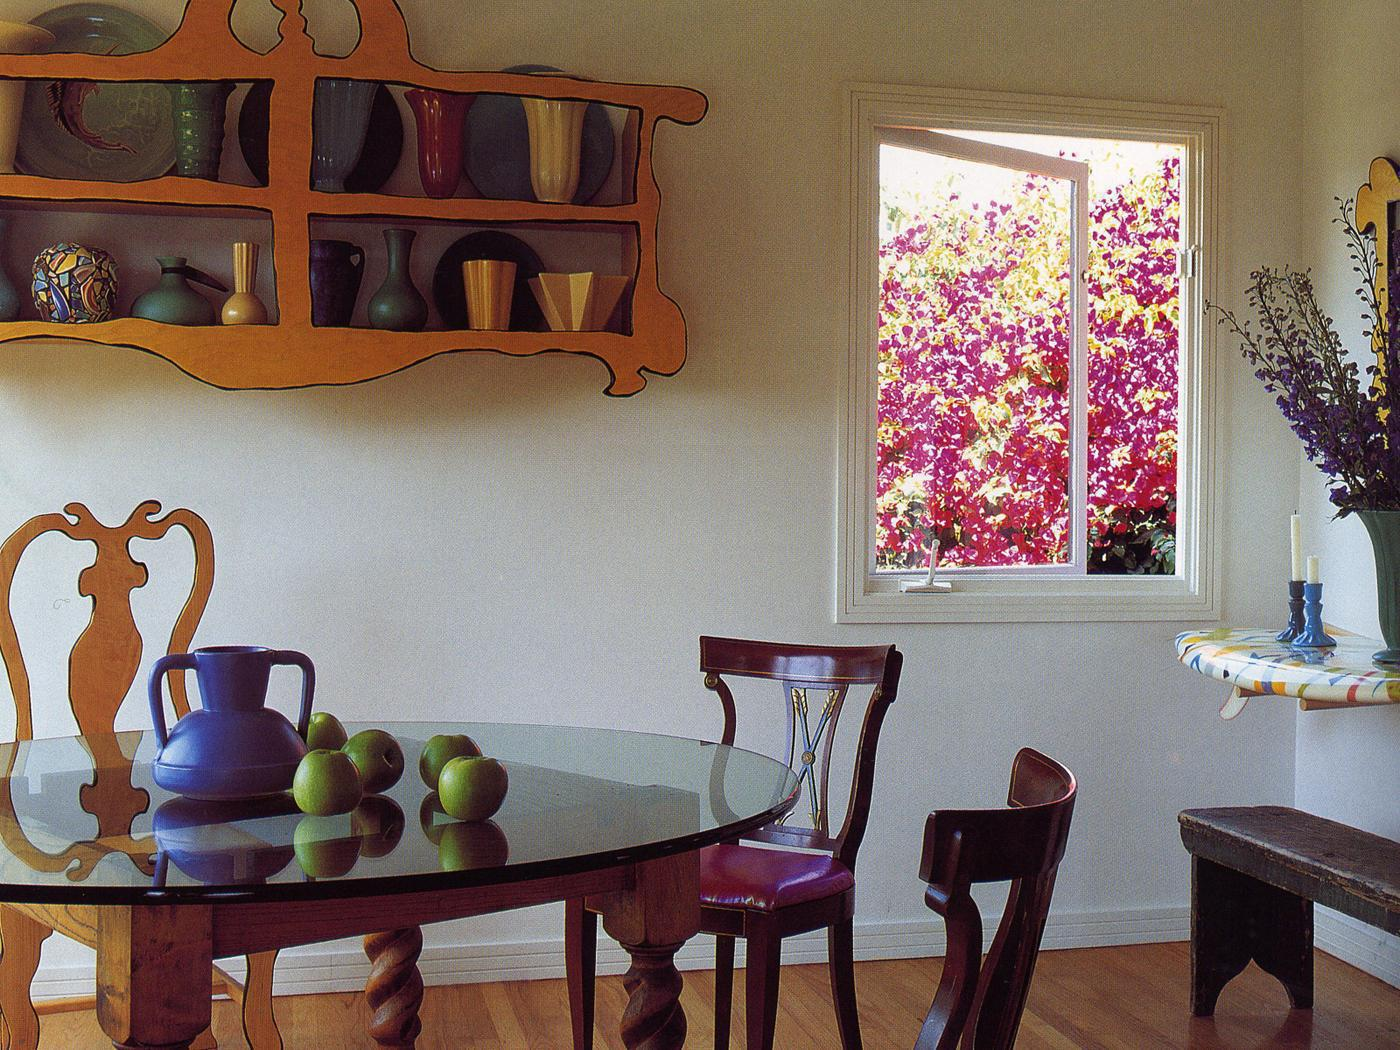Ventana: (852, 99, 1200, 621)
